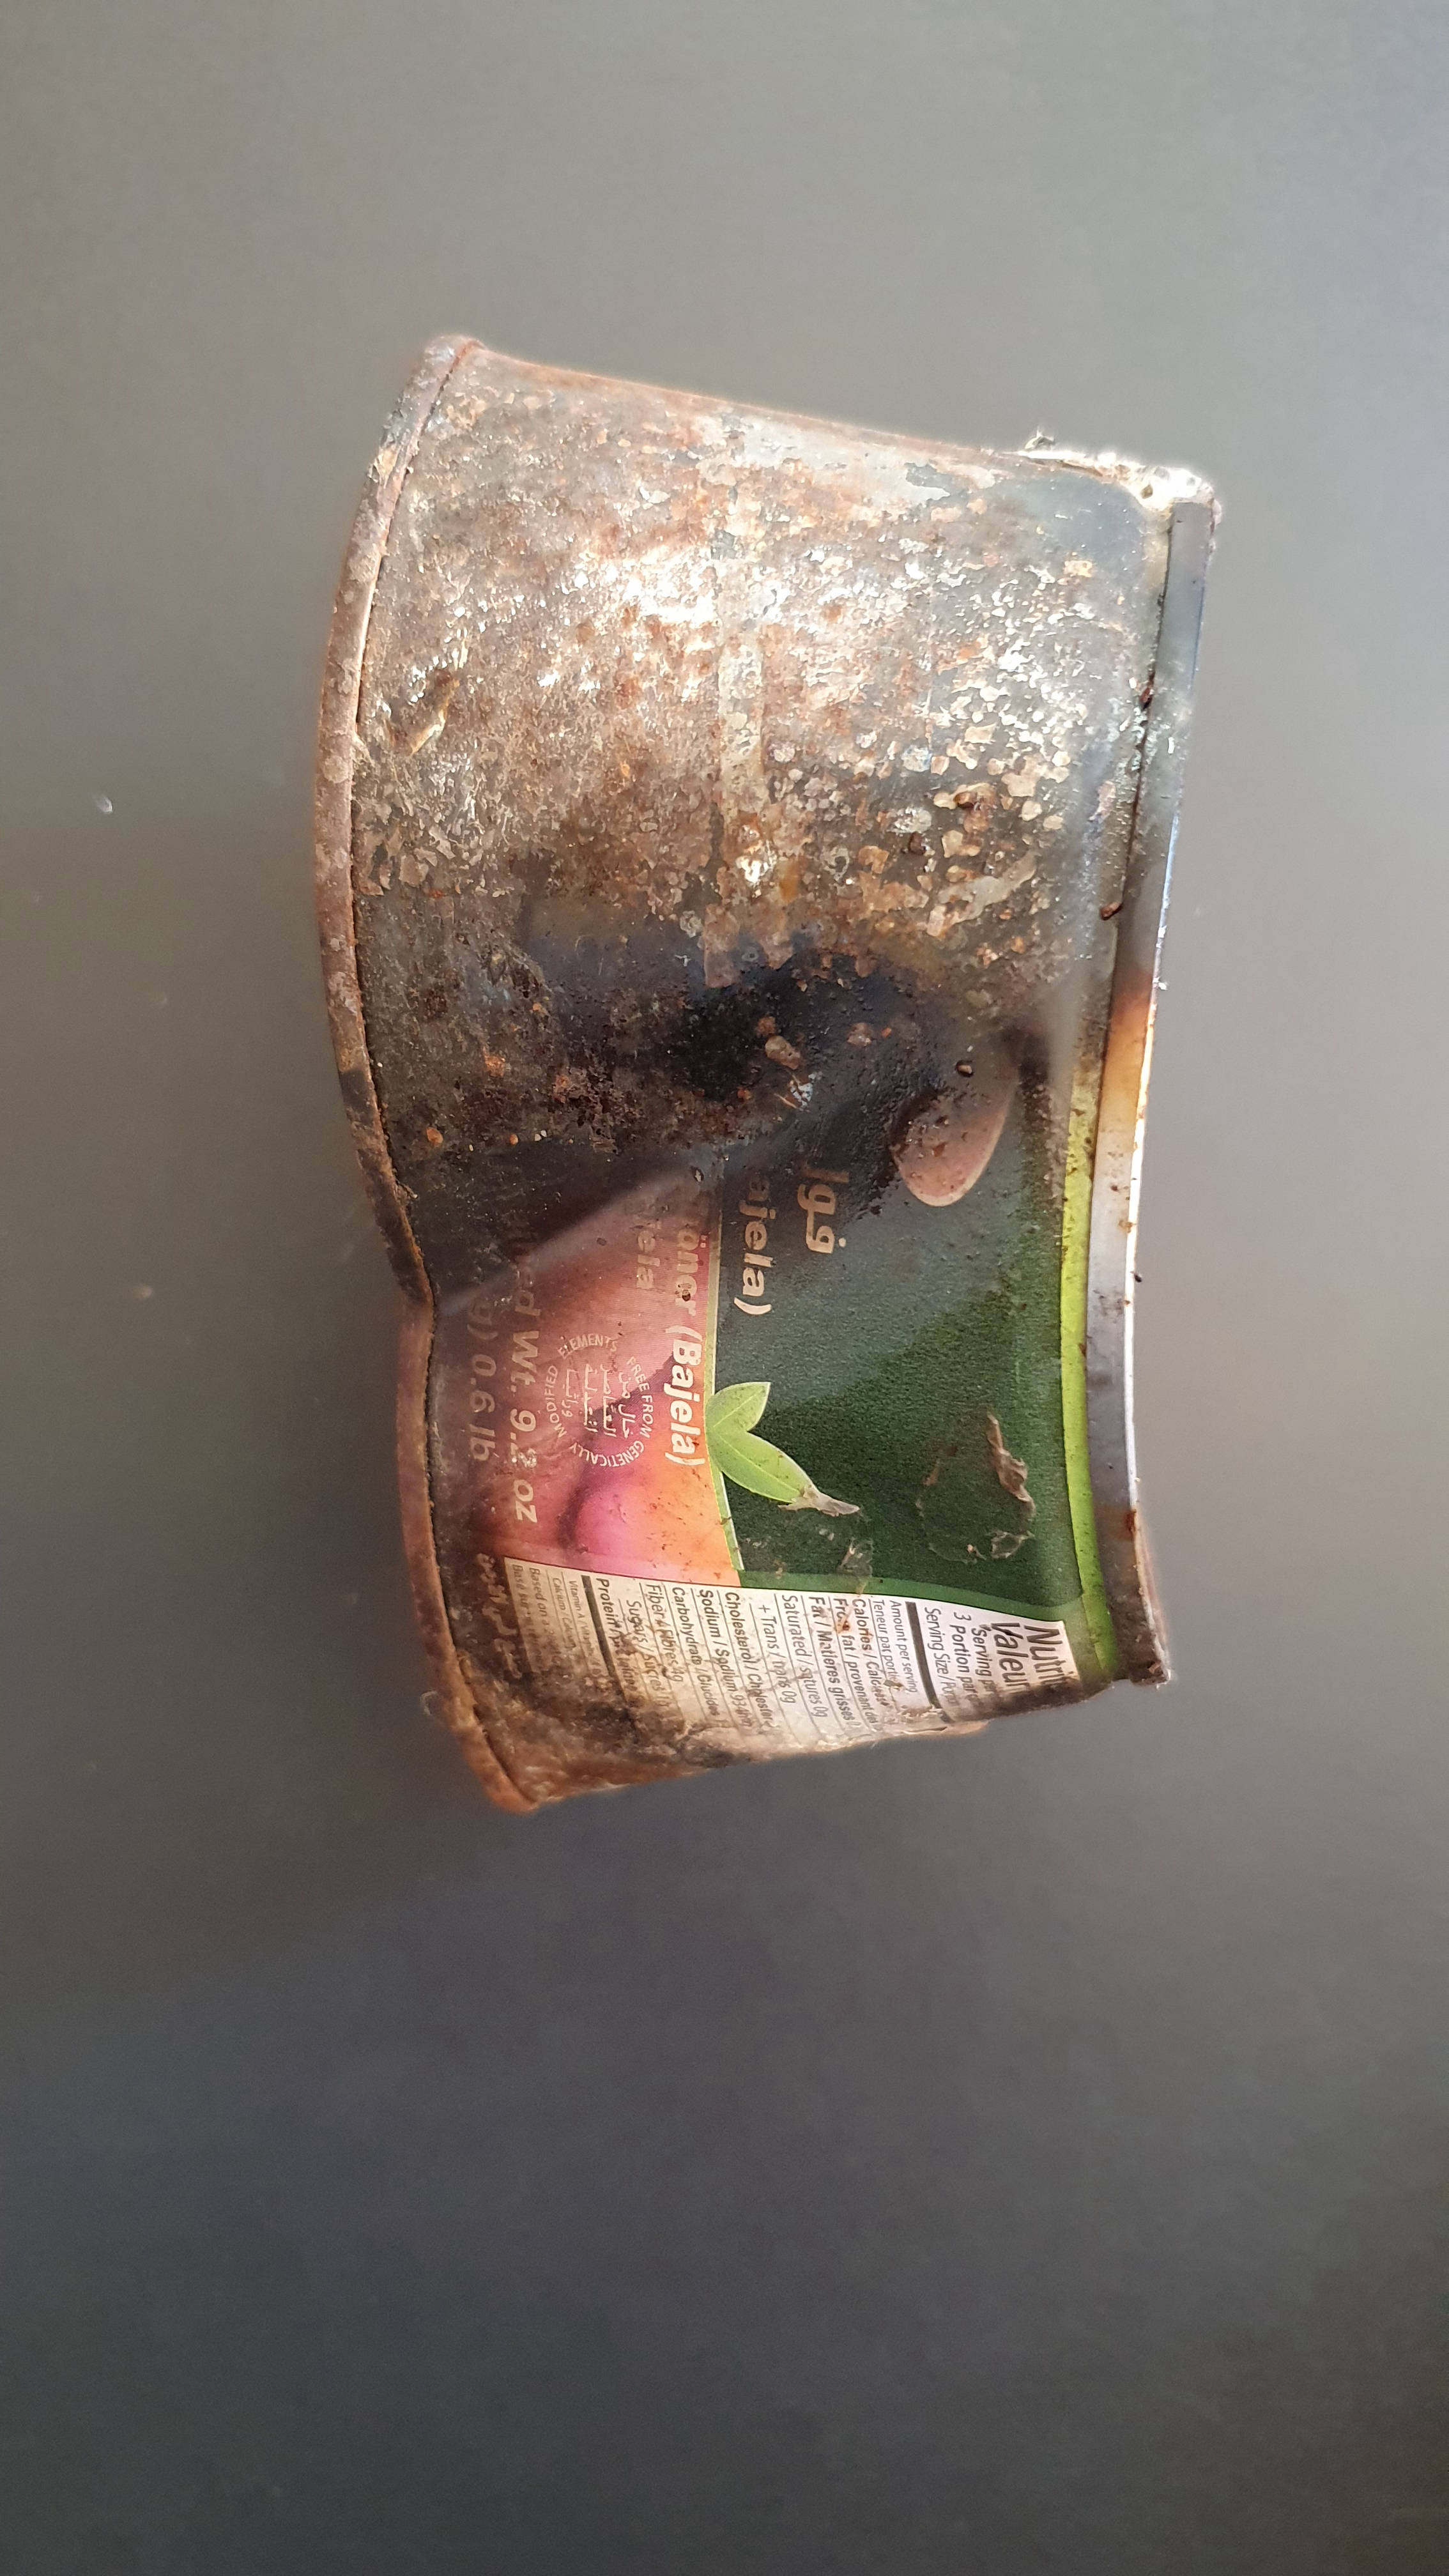metal: (255, 274, 1269, 1840)
